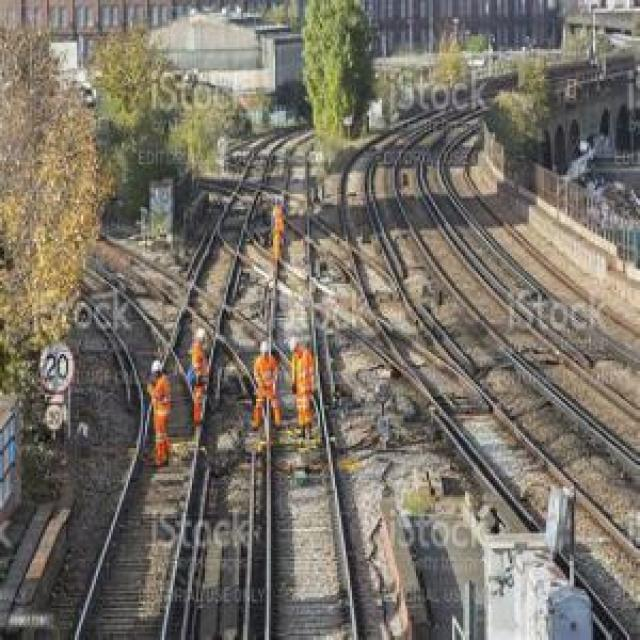danger: (289, 338, 319, 443), (252, 341, 282, 431), (151, 349, 173, 468), (187, 323, 206, 424), (269, 195, 286, 264)
